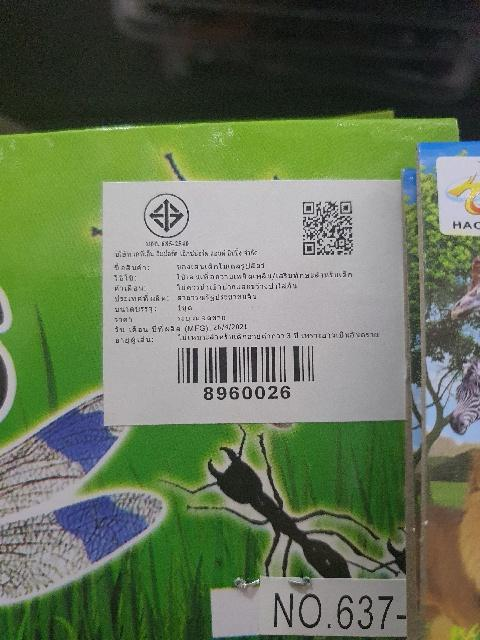Barcode: (162, 341, 323, 401)
